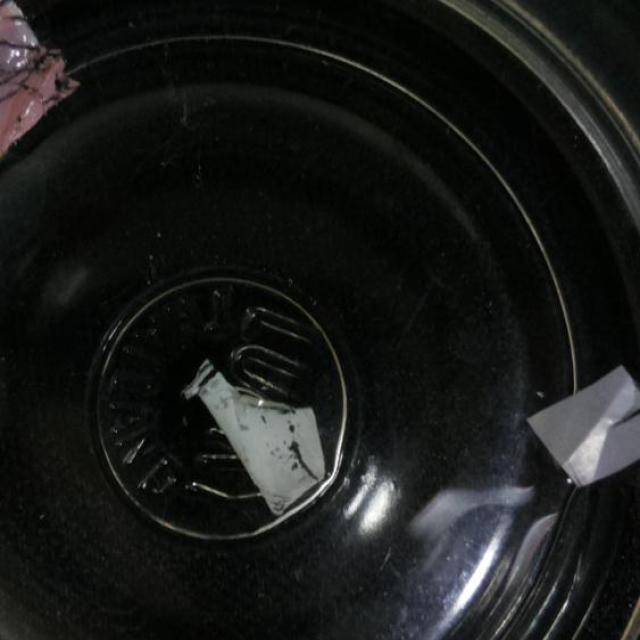fiber: (176, 351, 329, 519), (524, 360, 640, 498), (0, 3, 82, 166)
